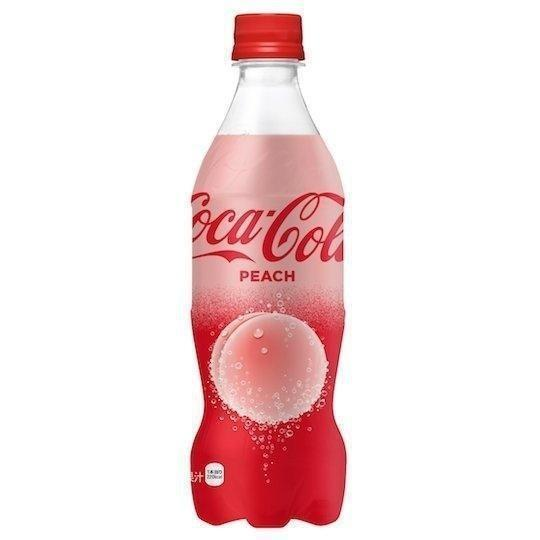bottle-plastic: (185, 5, 351, 536)
